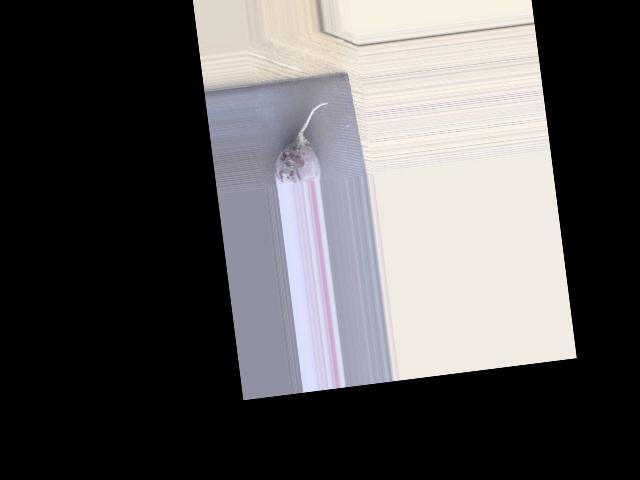beet: (266, 102, 336, 186)
